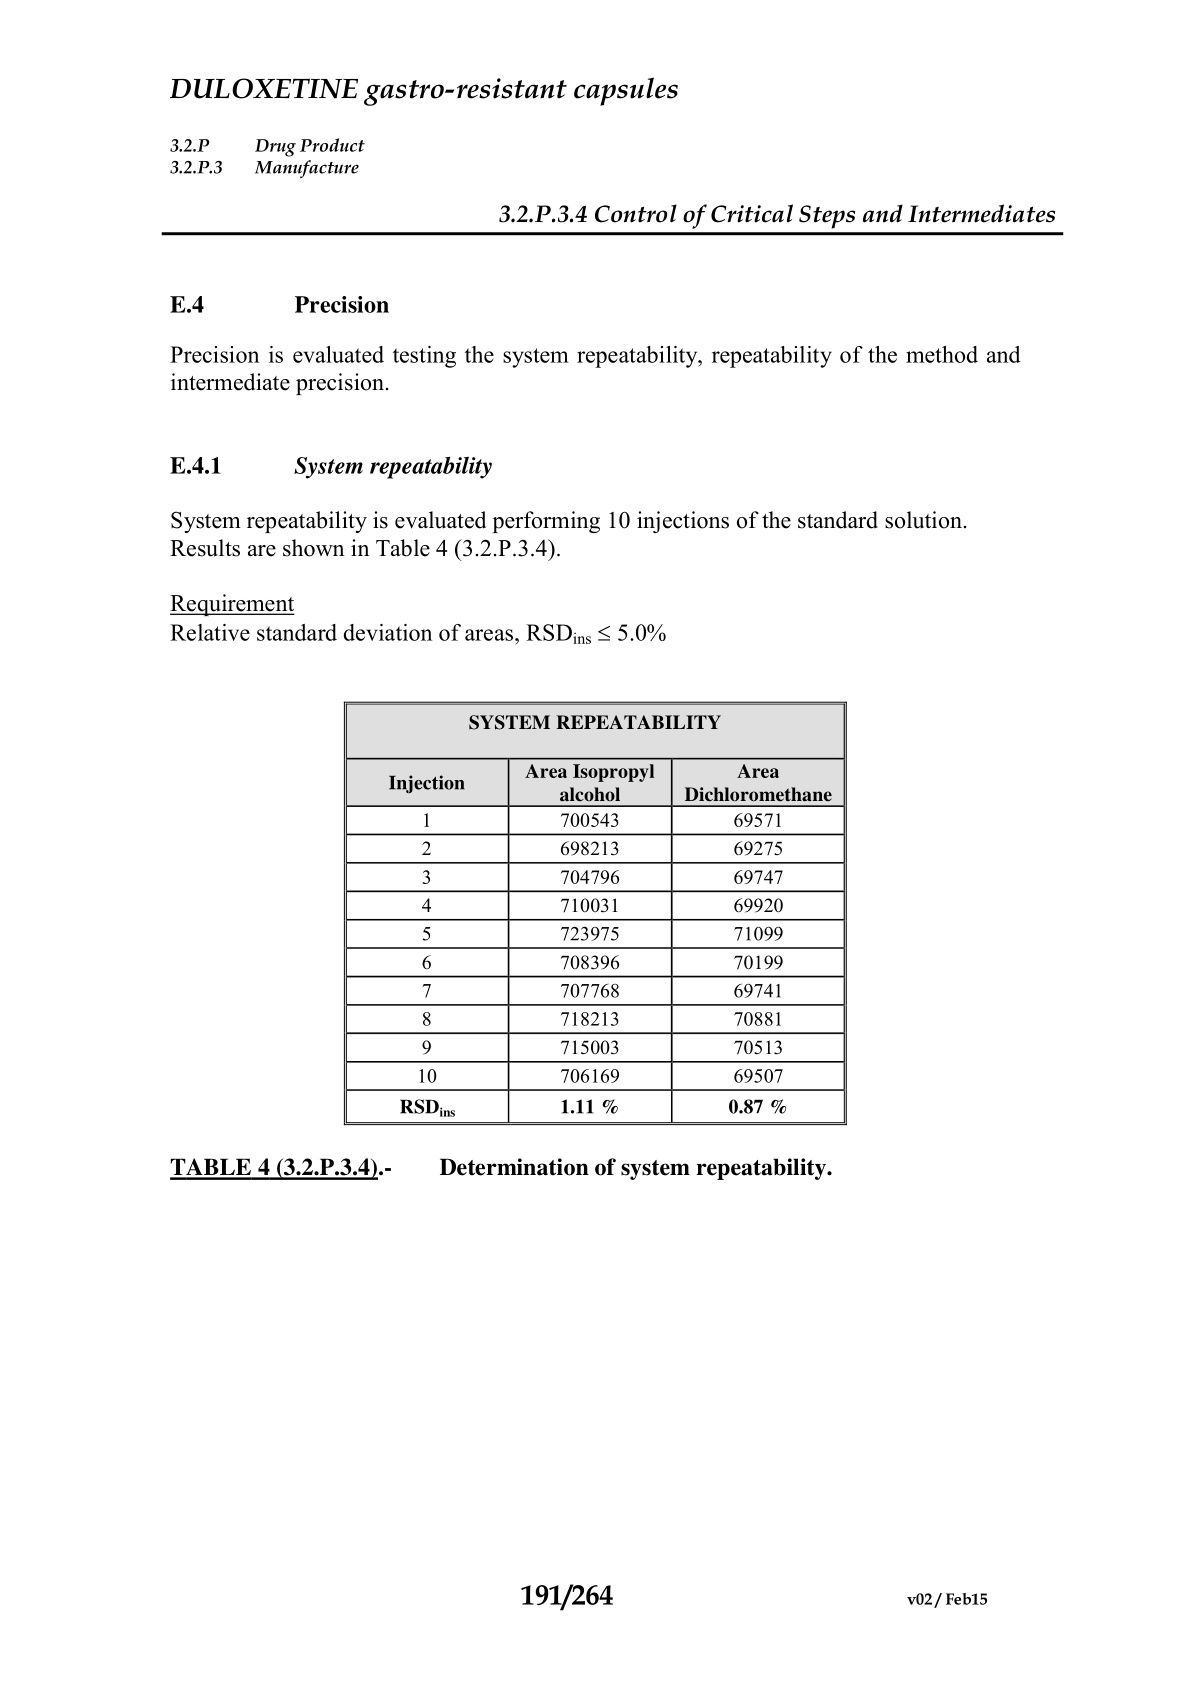merged_cells: (342, 700, 847, 1125)
